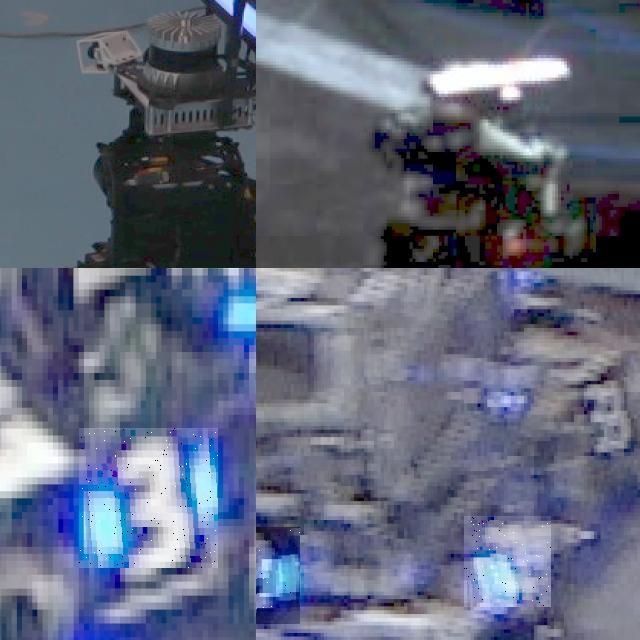B2: (464, 516, 551, 607), (256, 527, 300, 625)
B3: (79, 428, 218, 568)
